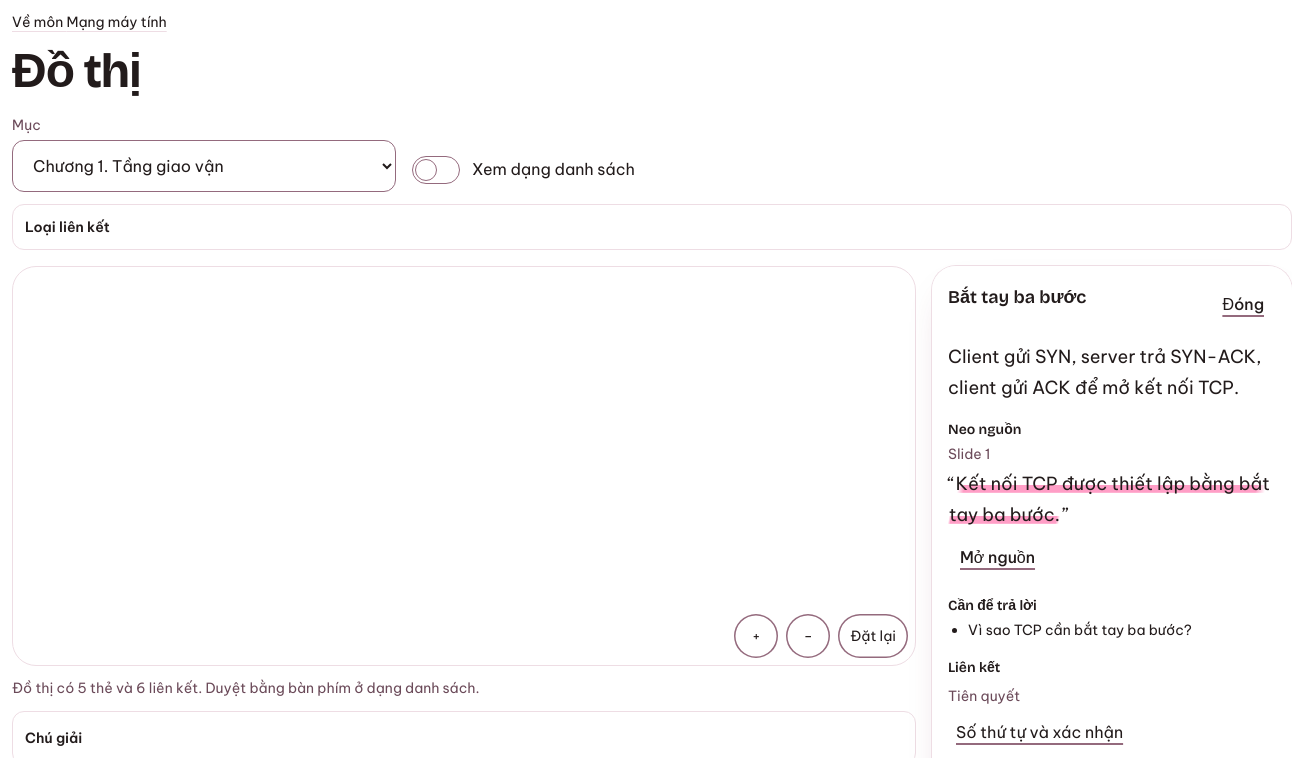
Test: the tray › US-19 AC4: a link in the tray moves to the other card; two steps away sits under Xa hơn
Click the button "Số thứ tự và xác nhận": (1112, 733) [948, 711, 1276, 755]
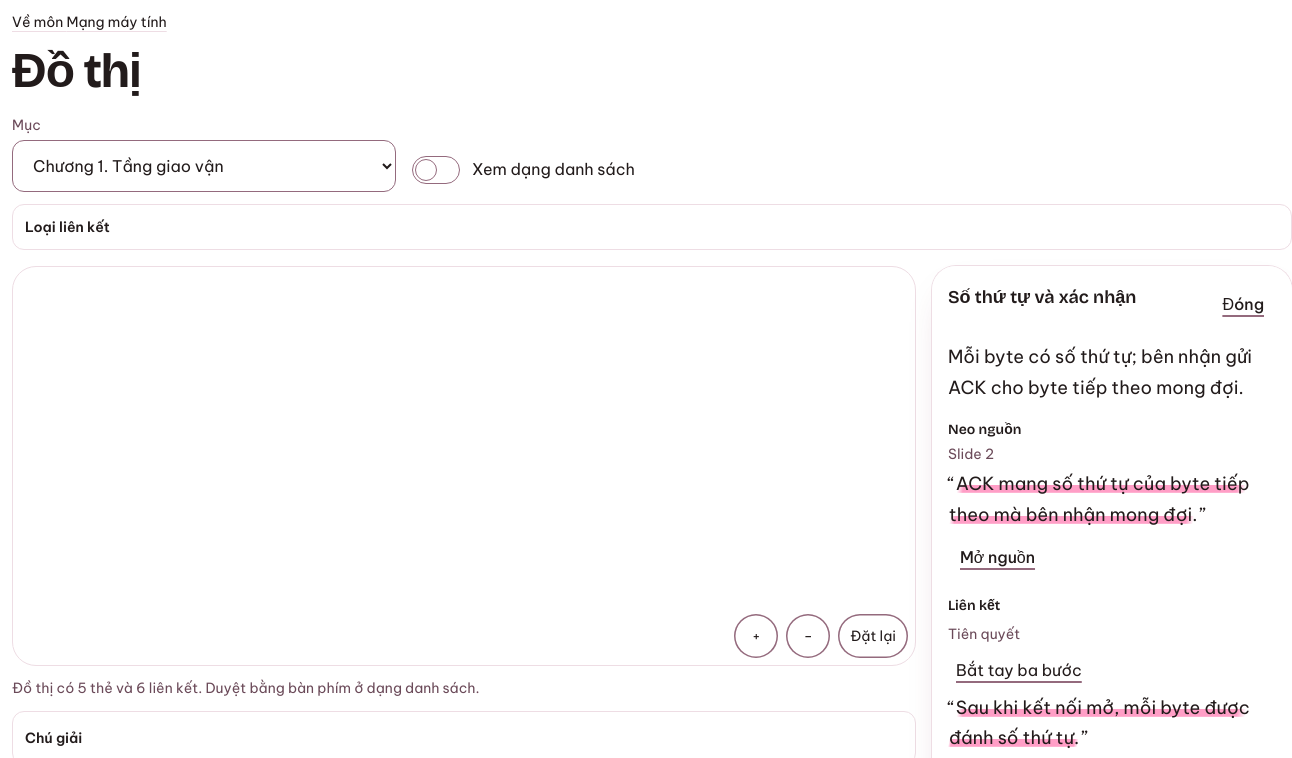
Expected: the heading "Số thứ tự và xác nhận" is shown, [948, 282, 1136, 313]
